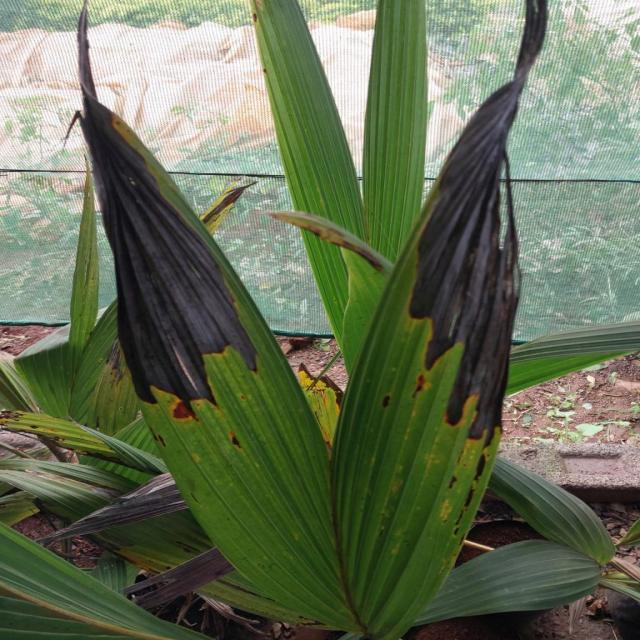gray leaf spot: (77, 20, 254, 404), (412, 0, 547, 472)
